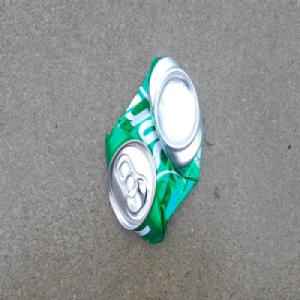SodaCan: (104, 50, 204, 247)
